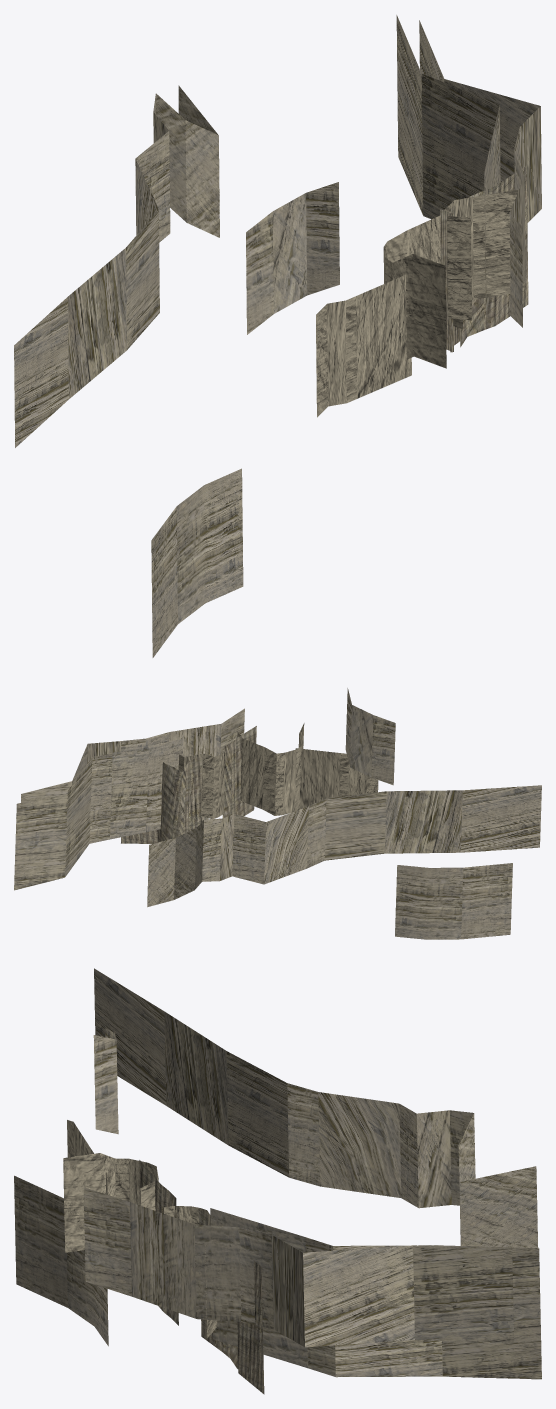
The model's file is SM_Chateaux_01_06.001.fbx.
The picture shows the model from 3 angles, top to bottom: view 1: azimuth 30°, elevation 25°; view 2: azimuth 150°, elevation 25°; view 3: azimuth 270°, elevation 25°; orthographic projection. The views are drawn at different scales.
Visible parts, largest first — view 1: SM_Chateaux_01_06.001; view 2: SM_Chateaux_01_06.001; view 3: SM_Chateaux_01_06.001.
Boxes of the visible parts, x1,y1,x2,y2 form: SM_Chateaux_01_06.001: (14,15,541,657); SM_Chateaux_01_06.001: (14,688,541,939); SM_Chateaux_01_06.001: (14,968,541,1394).
Bounding box in the file's own units: 15914 × 9178 × 12537.
